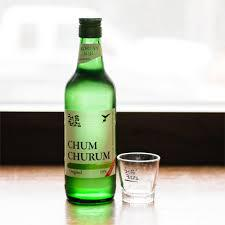soju: (61, 16, 118, 204)
